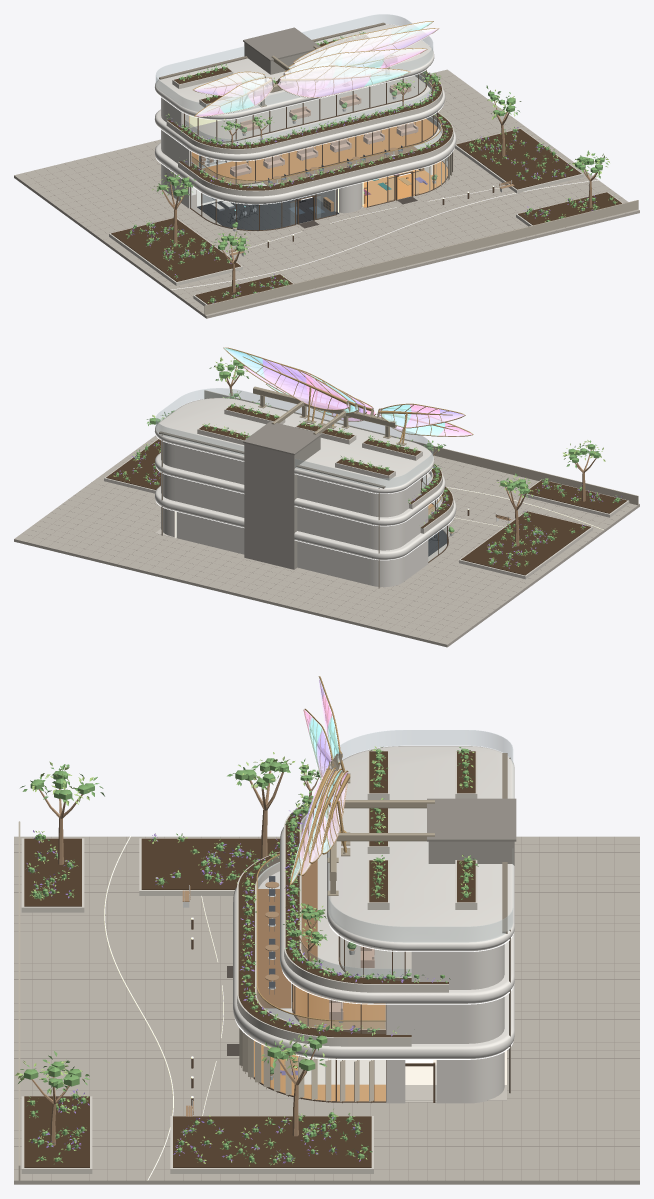
File: q09a-wing-wellness.glb
3 views of the same model, one above another, from view 1: azimuth 30°, elevation 25°; view 2: azimuth 150°, elevation 25°; view 3: azimuth 270°, elevation 25° (orthographic). The views are drawn at different scales.
Visible parts, largest first — view 1: SITE_PAVING, TIER_3, GARDENS, TIER_2, TIER_1, READING, GYM_EQUIPMENT, WING_1, WING_2, WING_3, YOGA_ROOM, ROOMS_CORE (+4 smaller); view 2: SITE_PAVING, TIER_3, TIER_1, GARDENS, ROOMS_CORE, TIER_2, WING_4, WING_3, RIDGE, WING_6, WING_5, READING (+1 smaller); view 3: SITE_PAVING, TIER_3, GARDENS, TIER_2, TIER_1, READING, ROOMS_CORE, YOGA_ROOM, RIDGE, WING_4, WING_5, WING_3 (+3 smaller).
Part boxes in pixels (x1=…): SITE_PAVING: x1=14, y1=69, x2=639, y2=318; TIER_3: x1=154, y1=24, x2=434, y2=142; GARDENS: x1=156, y1=14, x2=442, y2=154; TIER_2: x1=154, y1=85, x2=445, y2=184; TIER_1: x1=154, y1=128, x2=456, y2=230; READING: x1=178, y1=112, x2=453, y2=196; GYM_EQUIPMENT: x1=196, y1=188, x2=339, y2=231; WING_1: x1=277, y1=65, x2=410, y2=97; WING_2: x1=283, y1=48, x2=427, y2=89; WING_3: x1=288, y1=28, x2=439, y2=72; YOGA_ROOM: x1=362, y1=151, x2=453, y2=207; ROOMS_CORE: x1=191, y1=27, x2=321, y2=195; SITE_PAVING: x1=14, y1=357, x2=639, y2=647; TIER_3: x1=154, y1=398, x2=434, y2=517; TIER_1: x1=155, y1=486, x2=456, y2=587; GARDENS: x1=156, y1=388, x2=445, y2=588; ROOMS_CORE: x1=155, y1=421, x2=321, y2=569; TIER_2: x1=154, y1=452, x2=445, y2=550; WING_4: x1=223, y1=347, x2=352, y2=422; WING_3: x1=227, y1=349, x2=359, y2=423; RIDGE: x1=253, y1=386, x2=396, y2=438; WING_6: x1=380, y1=403, x2=465, y2=445; WING_5: x1=376, y1=408, x2=473, y2=444; READING: x1=420, y1=486, x2=453, y2=533; SITE_PAVING: x1=14, y1=752, x2=639, y2=1184; TIER_3: x1=327, y1=746, x2=514, y2=989; GARDENS: x1=283, y1=730, x2=512, y2=1093; TIER_2: x1=280, y1=819, x2=514, y2=1043; TIER_1: x1=227, y1=871, x2=514, y2=1103; READING: x1=237, y1=850, x2=411, y2=1046; ROOMS_CORE: x1=405, y1=798, x2=516, y2=1100; YOGA_ROOM: x1=239, y1=1028, x2=385, y2=1103; RIDGE: x1=327, y1=797, x2=434, y2=895; WING_4: x1=321, y1=770, x2=350, y2=856; WING_5: x1=303, y1=708, x2=350, y2=783; WING_3: x1=309, y1=768, x2=350, y2=863.
Size of the model in its own units: 52.06 by 17.35 by 40.
